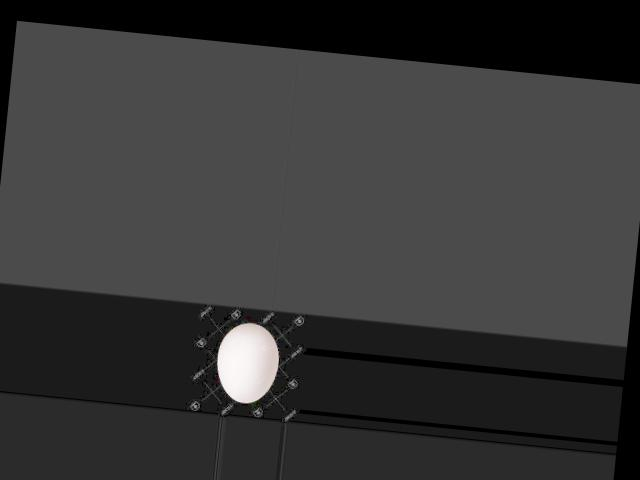egg: (213, 320, 280, 405)
